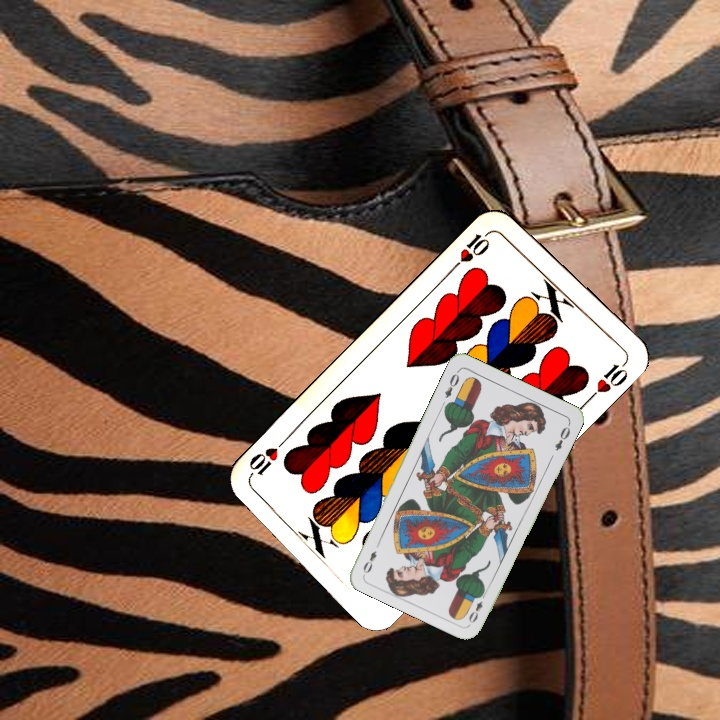EO: (464, 588, 489, 626), (441, 366, 462, 401)
H10: (448, 226, 495, 272)
